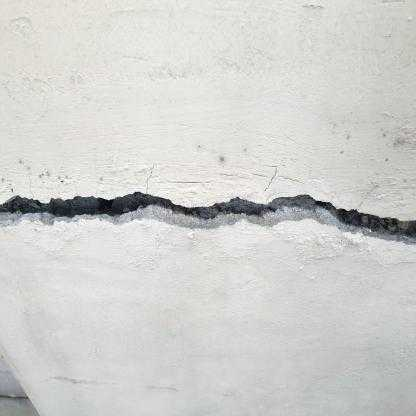crack: (1, 191, 416, 243)
